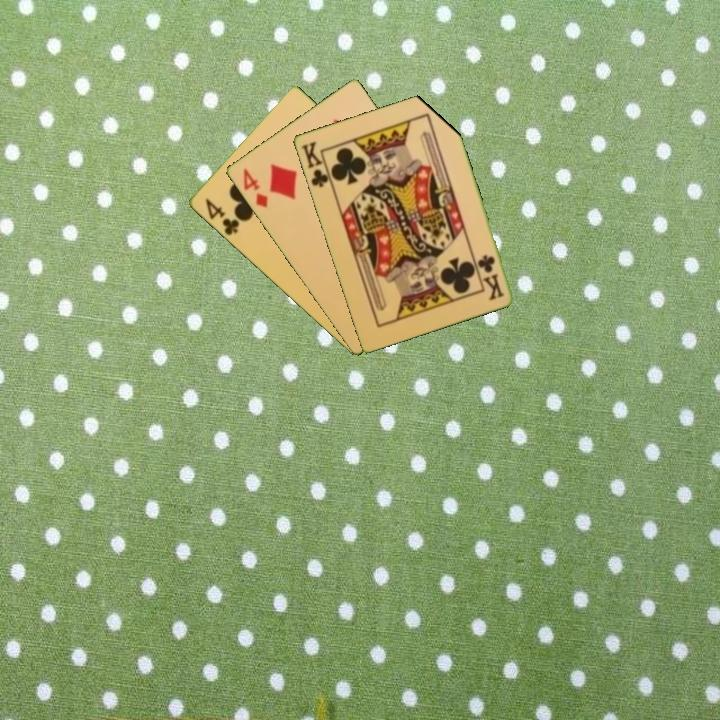4c: (201, 195, 242, 238)
4d: (239, 165, 270, 211)
Kc: (297, 137, 335, 190), (474, 251, 507, 303)
